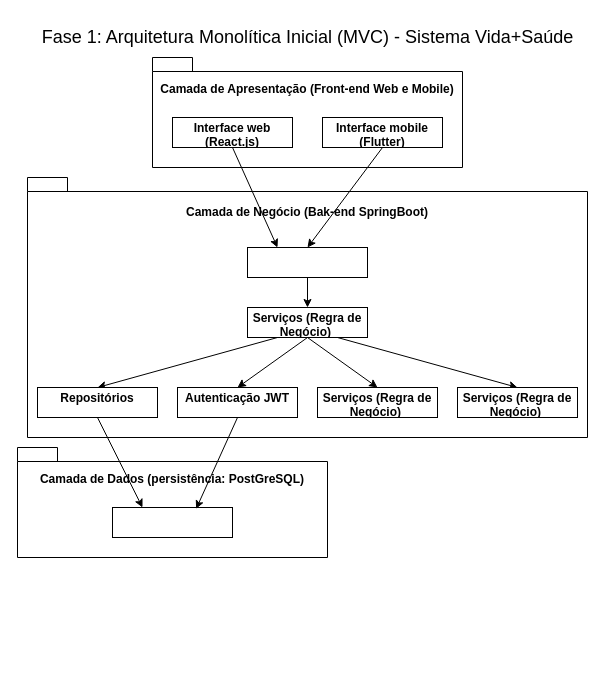
Image size: 605x684. Some labels were removed from this diagram. Here are the shapes that lost their labels. From the top down, the centre of each, then its label:
At (307,262): "Controladores REST".
At (172,522): "Banco de Dados (PostGreSQL)".
